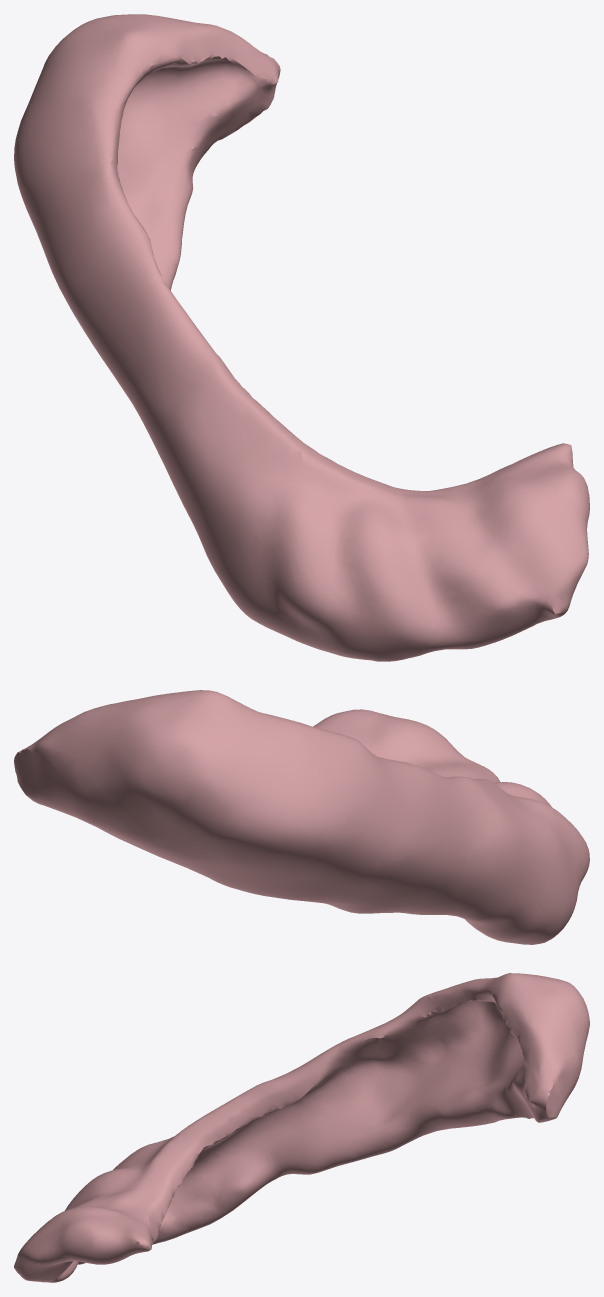
The model's file is fma74042-r_mm3048m.glb.
3 views of the same model, one above another, from view 1: azimuth 30°, elevation 25°; view 2: azimuth 150°, elevation 25°; view 3: azimuth 270°, elevation 25° (orthographic). The views are drawn at different scales.
Parts seen in each view (by area): view 1: FMA74042-R_MM3048M; view 2: FMA74042-R_MM3048M; view 3: FMA74042-R_MM3048M.
Part boxes in pixels (x1,y1,x2,y2): FMA74042-R_MM3048M: [14, 14, 589, 661]; FMA74042-R_MM3048M: [14, 690, 589, 944]; FMA74042-R_MM3048M: [14, 973, 589, 1282].
Size of the model in its own units: 0.0216 by 0.0264 by 0.0457.
